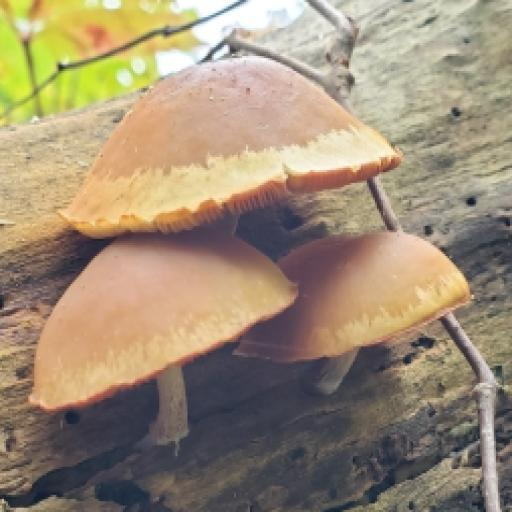mushroom: (30, 58, 476, 427)
